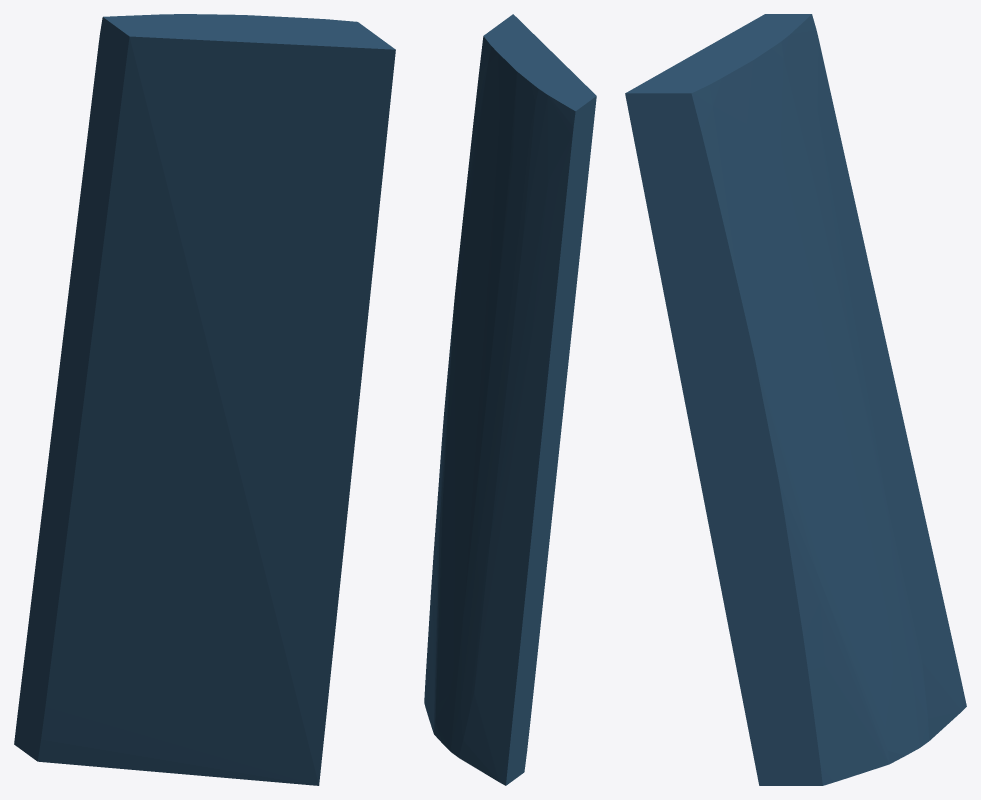
The model's file is left-shoulder-pitch-0_part_105.obj.
3 views of the same model, side by side, from view 1: azimuth 30°, elevation 25°; view 2: azimuth 150°, elevation 25°; view 3: azimuth 270°, elevation 25° (orthographic). The views are drawn at different scales.
Size of the model in its own units: 0.0122 by 0.0495 by 0.0221.
